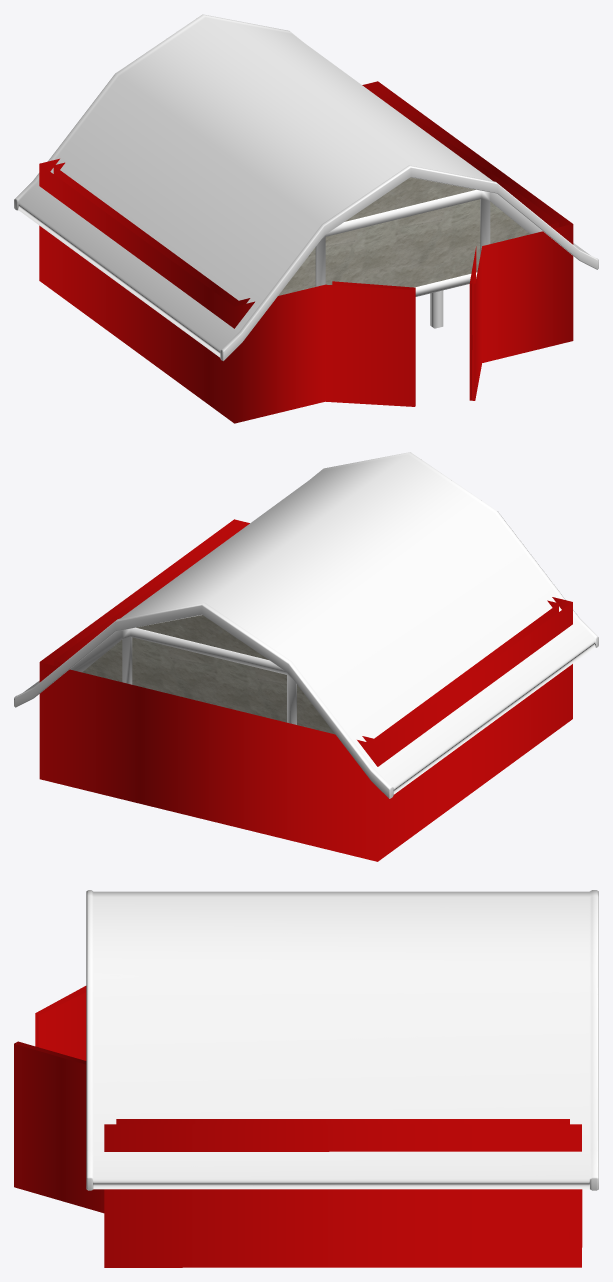
File: bauernhof_scheune_01.fbx
The picture shows the model from 3 angles, top to bottom: view 1: azimuth 30°, elevation 25°; view 2: azimuth 150°, elevation 25°; view 3: azimuth 270°, elevation 25°; orthographic projection. The views are drawn at different scales.
Parts seen in each view (by area): view 1: scheune, colmesh; view 2: scheune, colmesh; view 3: scheune, colmesh.
Part boxes in pixels (bbox=[...]): scheune: bbox=[14, 14, 598, 360]; colmesh: bbox=[39, 81, 573, 423]; scheune: bbox=[14, 452, 598, 798]; colmesh: bbox=[39, 519, 572, 861]; scheune: bbox=[86, 890, 598, 1190]; colmesh: bbox=[14, 986, 582, 1267].
Bounding box in the file's own units: 1297 × 728 × 1426.
